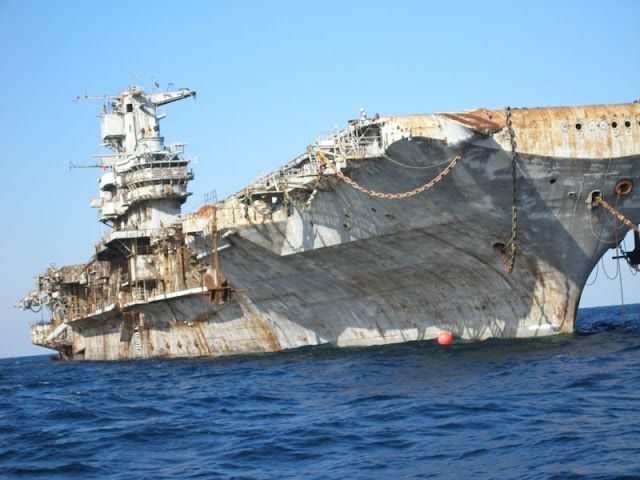rust: (449, 111, 638, 157), (197, 208, 235, 313), (164, 320, 213, 354), (248, 317, 281, 350), (125, 319, 154, 352), (494, 242, 512, 271), (616, 180, 633, 195)
